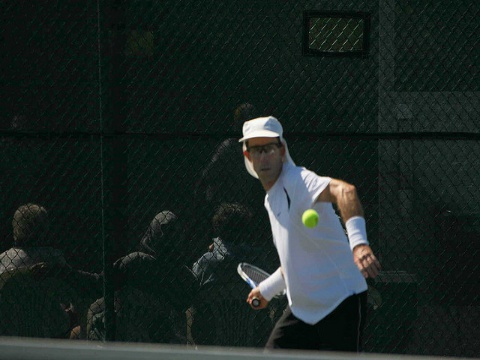hand: (352, 246, 382, 282)
